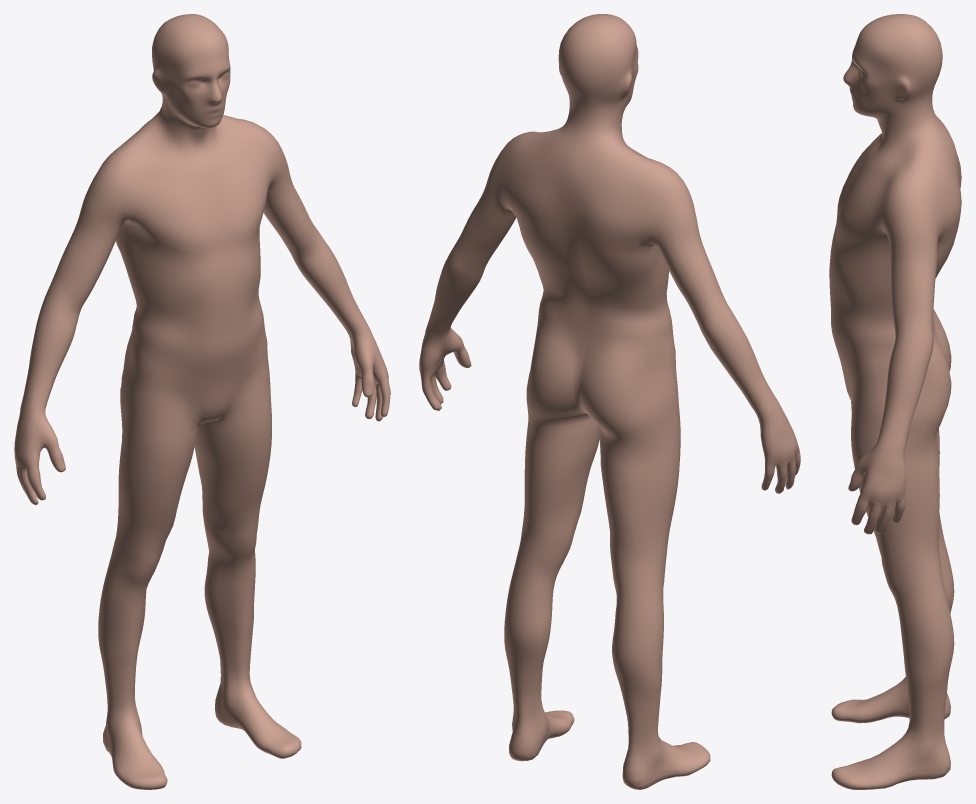
Rendered from Human.fbx.
3 renders of one model, left to right at view 1: azimuth 30°, elevation 25°; view 2: azimuth 150°, elevation 25°; view 3: azimuth 270°, elevation 25°, orthographic.
Parts seen in each view (by area): view 1: Human; view 2: Human; view 3: Human.
Boxes of the visible parts, x1,y1,x2,y2 form: Human: [14, 14, 390, 789]; Human: [419, 14, 800, 789]; Human: [829, 14, 961, 789].
Bounding box in the file's own units: 95.48 × 183 × 29.88.
